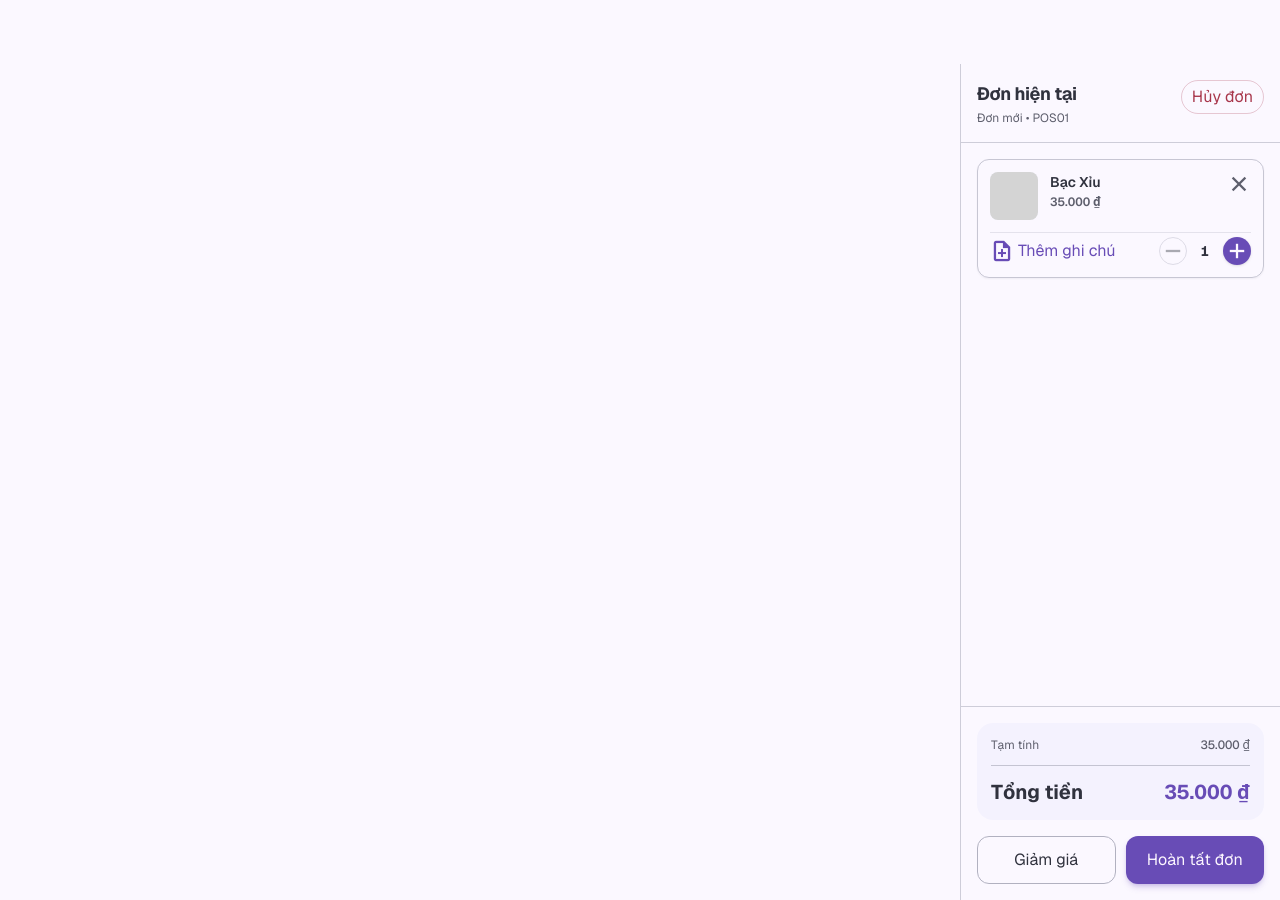
Test: CartPanel discount modal › opens discount modal and applies fixed discount
Click the button "Giảm giá" at (1046, 860), box [977,836,1116,884]
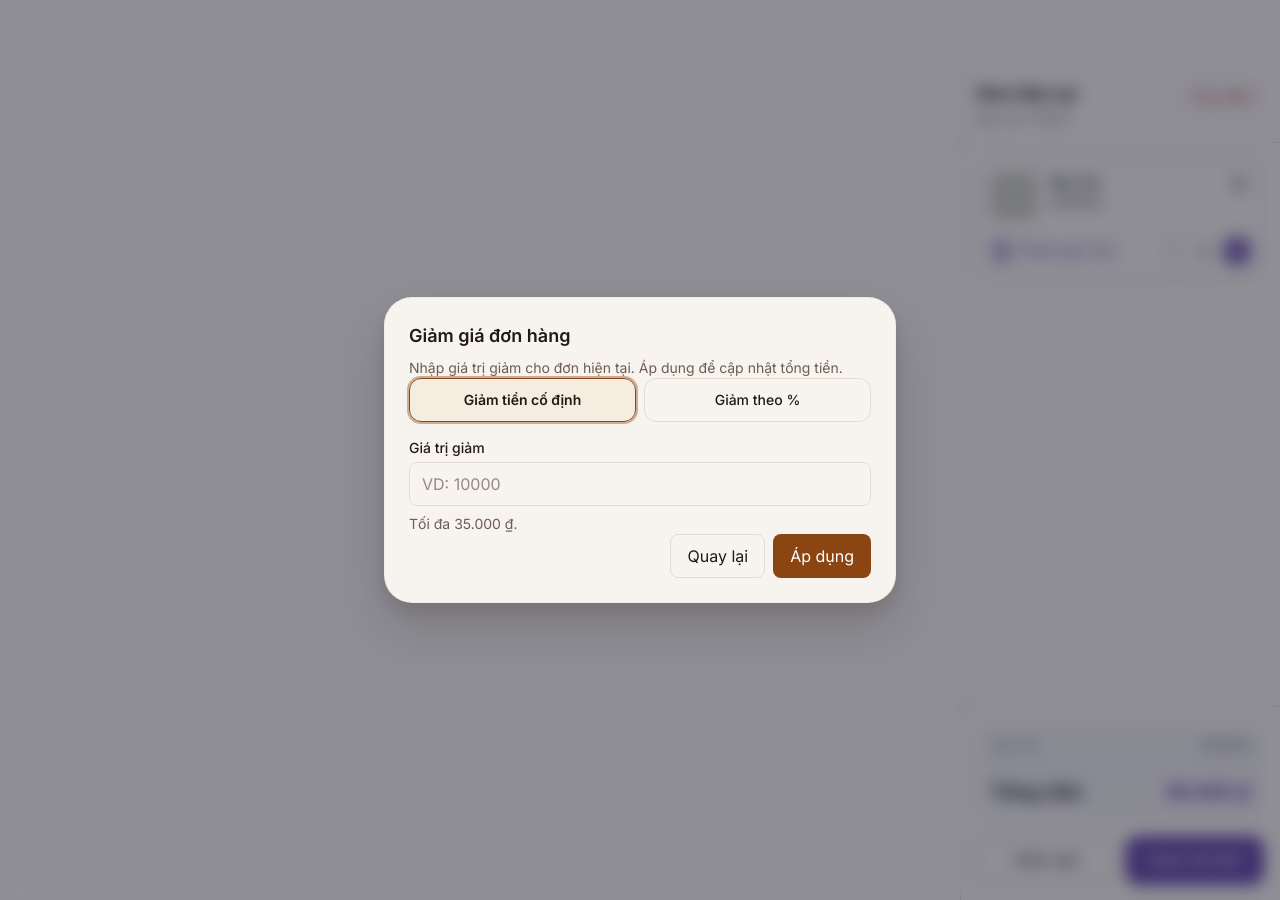
Expected: the dialog is shown, [384,297,896,603]
Expected: the heading "Giảm giá đơn hàng" is shown, [409,325,570,346]
Expected: the radio button labelled "Giảm tiền cố định" is checked, [409,378,636,422]
Type "10000" into the field labelled "Giá trị giảm" at (640, 484), box [409,462,871,506]
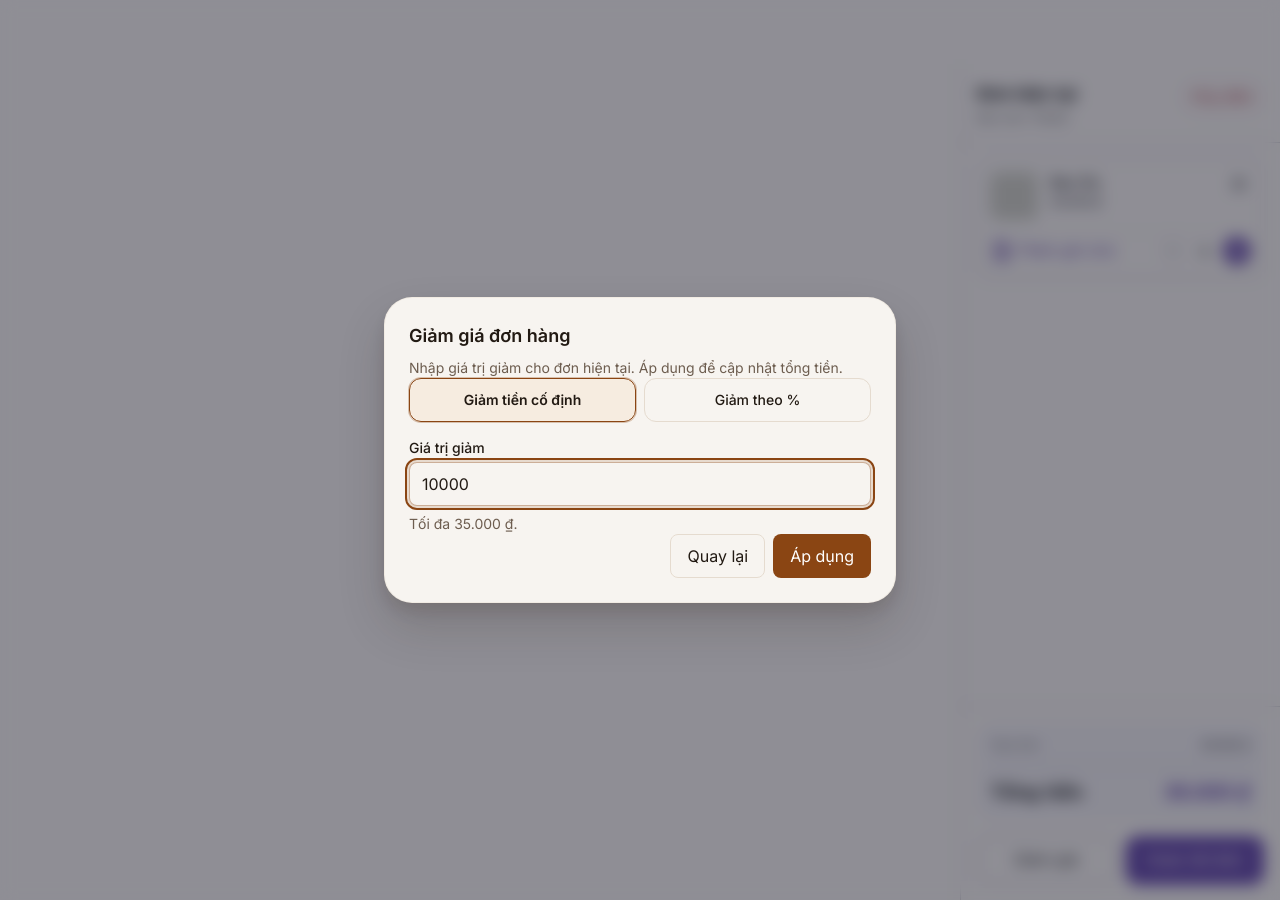
Click the button "Áp dụng" at (822, 556), box [773,534,871,578]
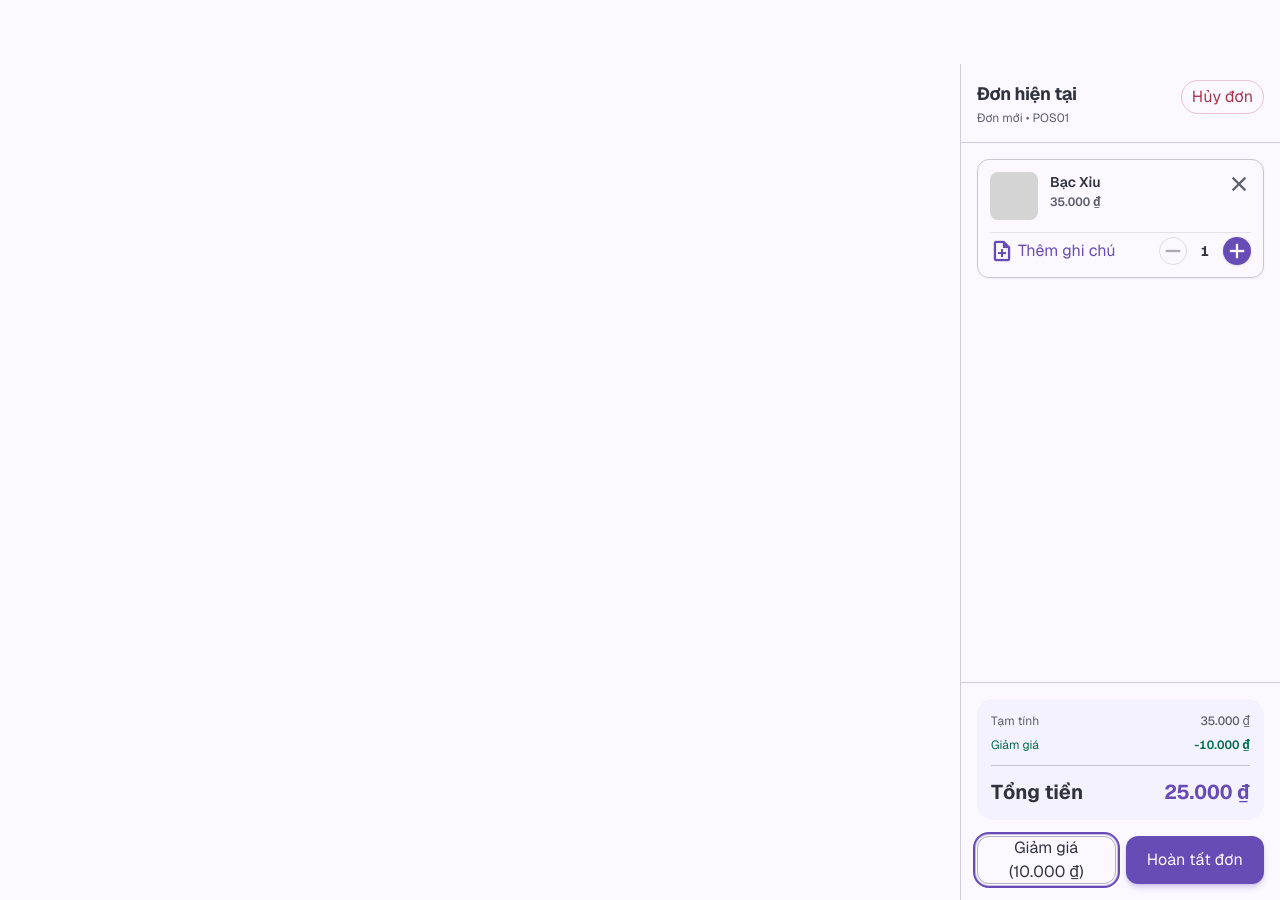
Expected: the dialog is gone
Expected: the text "-10.000 ₫" is shown, [1194,737,1250,753]
